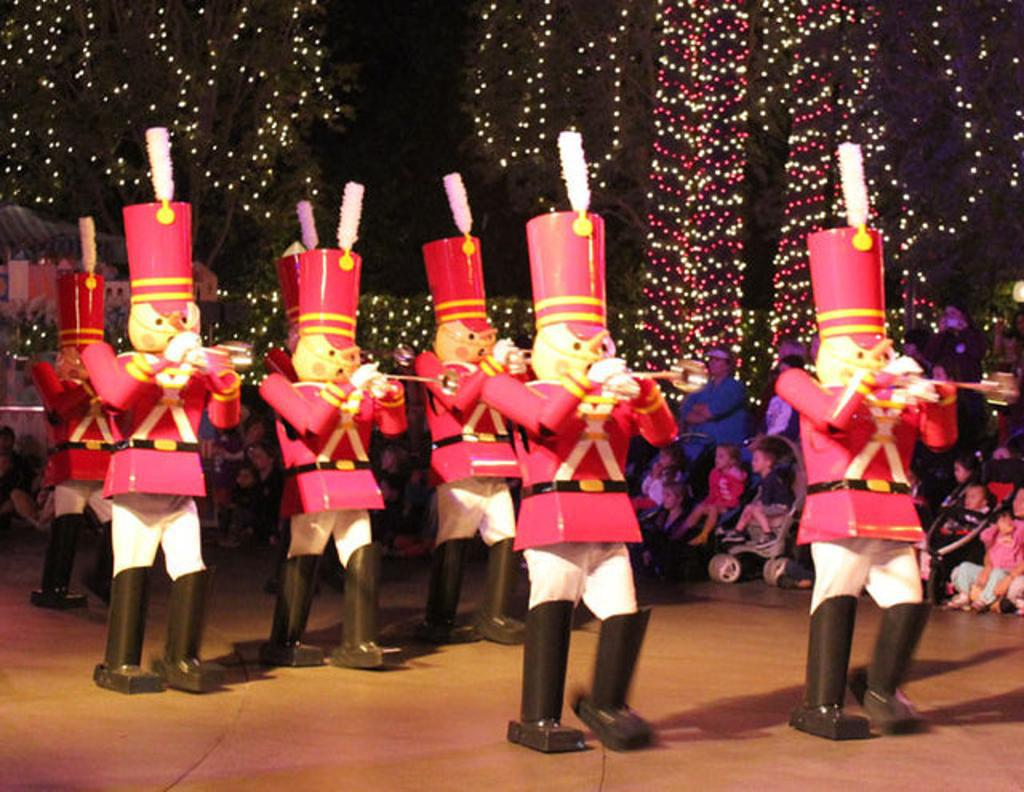face: (68, 337, 100, 373), (964, 489, 983, 510), (811, 338, 825, 361), (710, 356, 726, 376), (933, 367, 947, 389), (717, 448, 731, 469), (954, 463, 967, 484), (945, 307, 960, 324), (379, 481, 392, 500), (752, 453, 765, 471), (1000, 516, 1014, 532), (255, 450, 268, 467), (659, 451, 671, 469), (906, 339, 918, 355), (383, 454, 394, 470), (239, 472, 251, 486)
